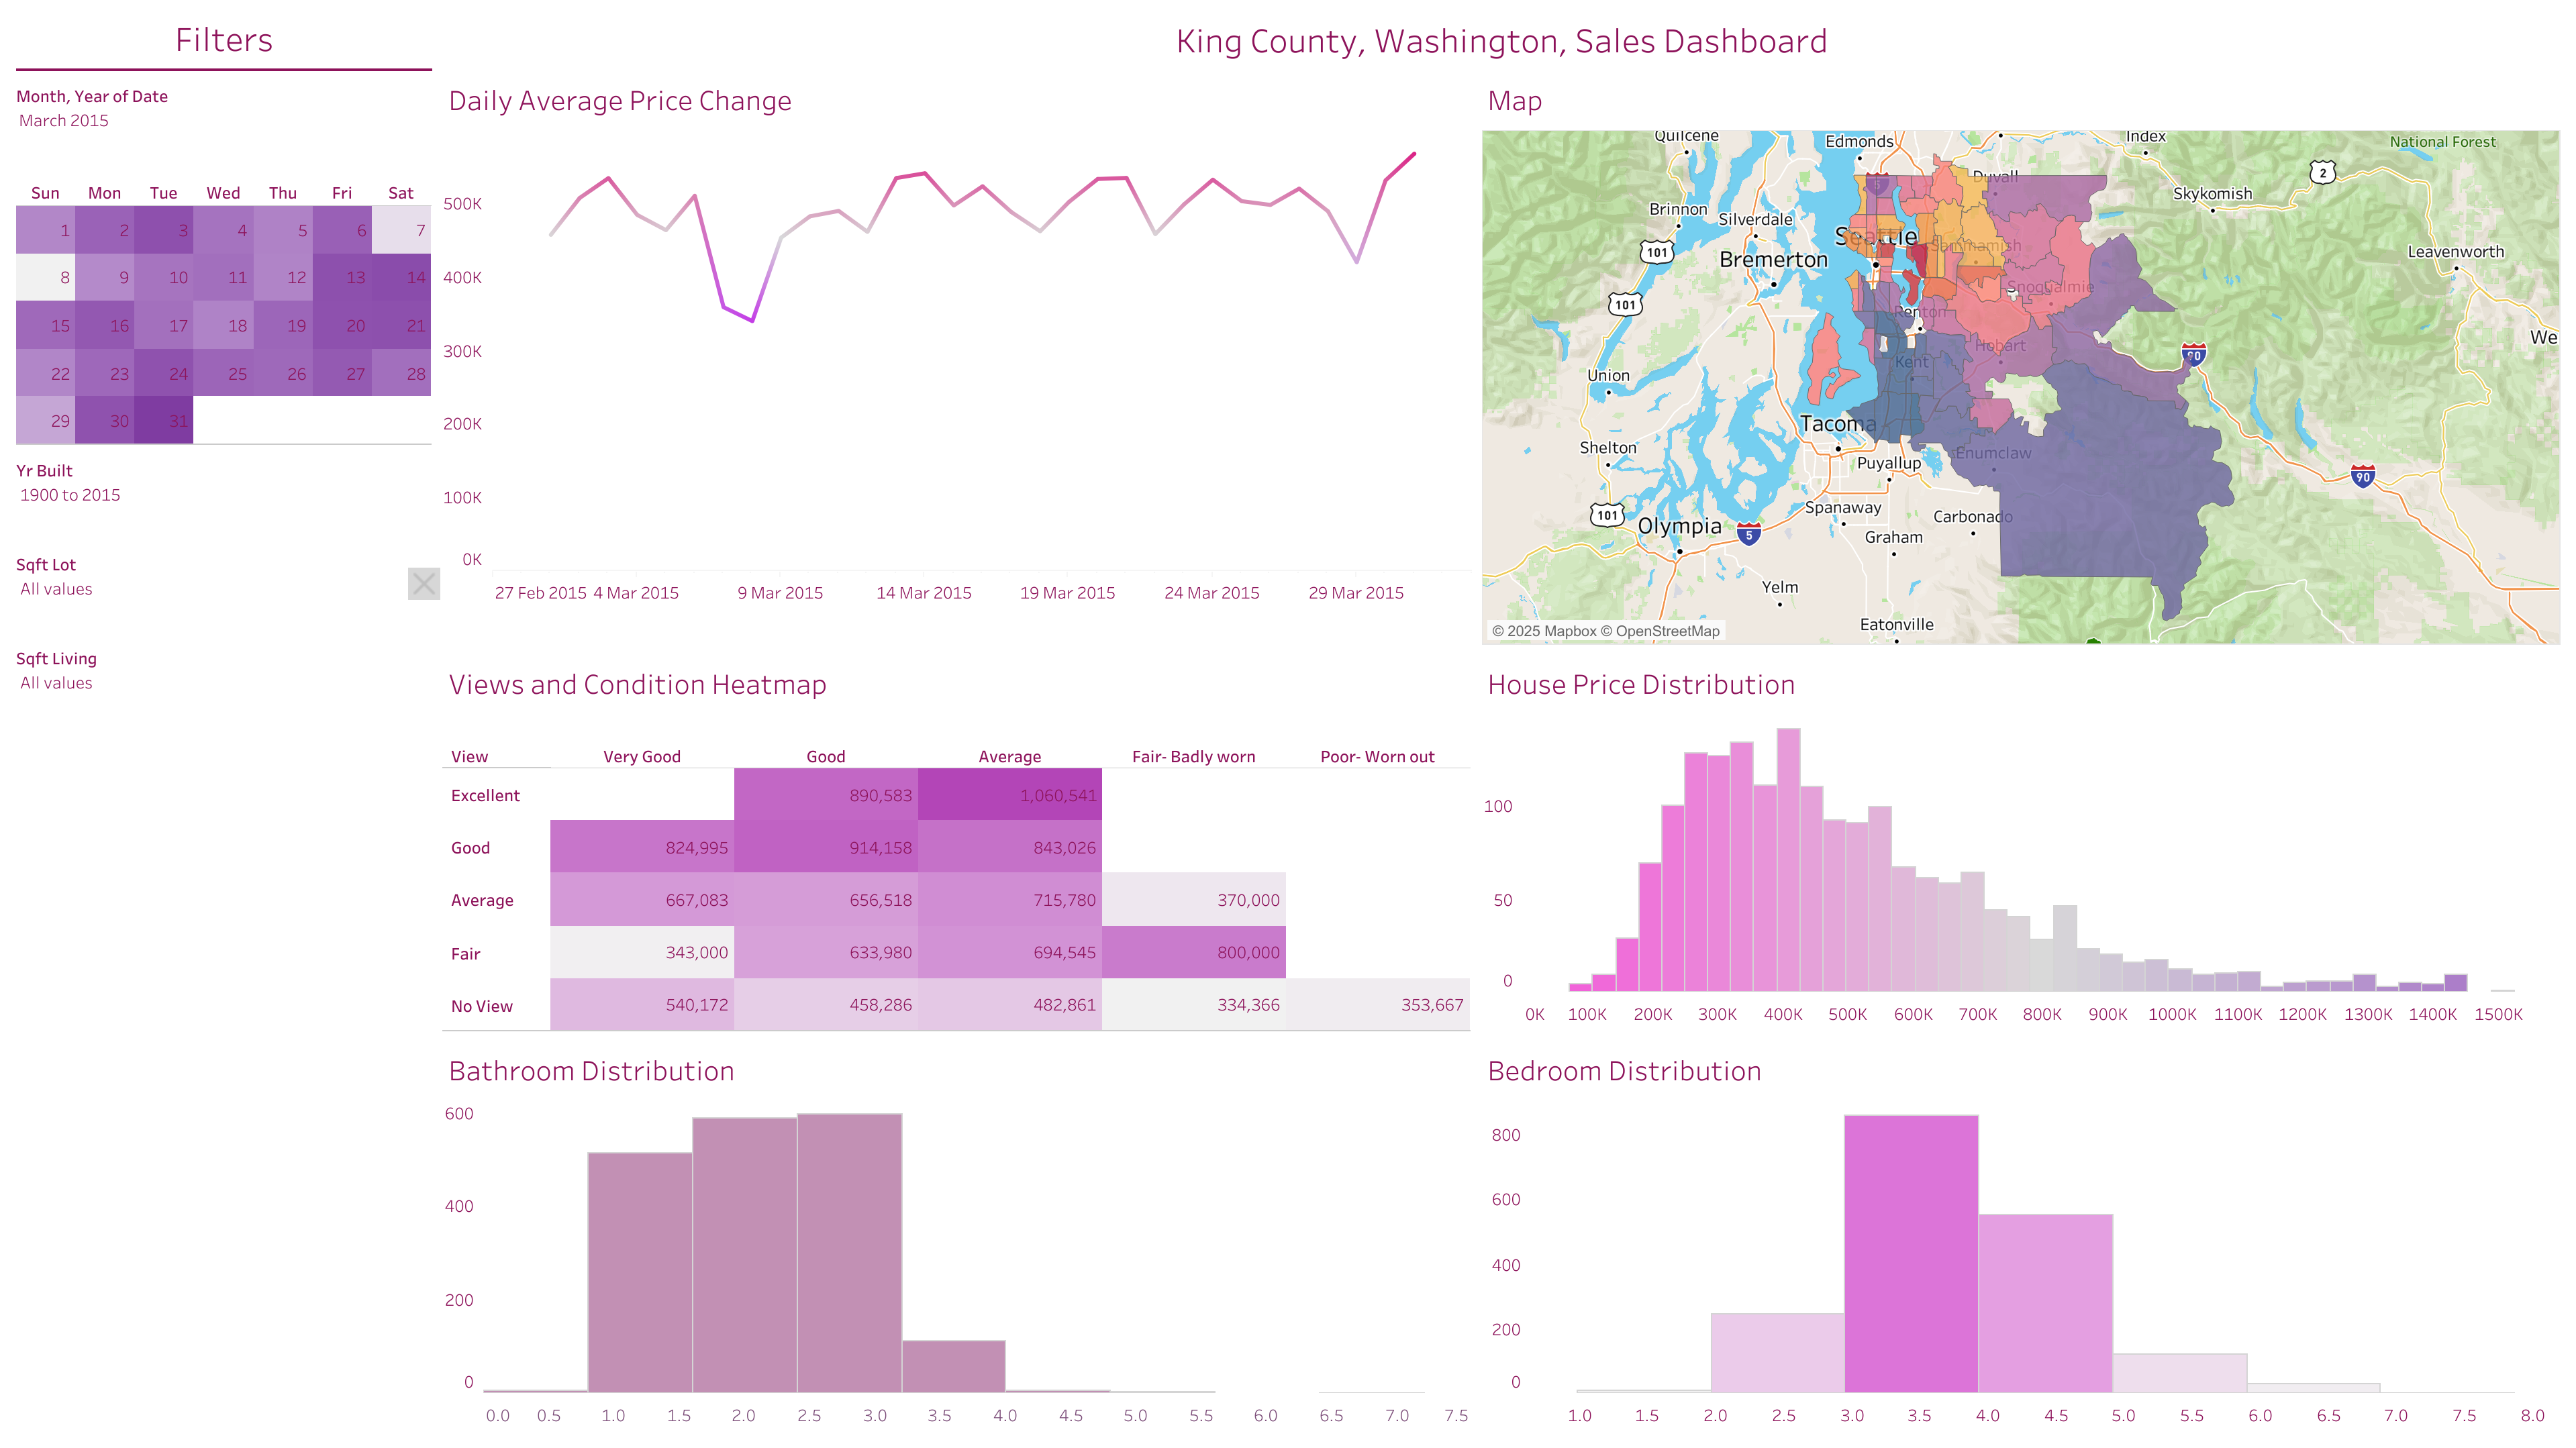

The page's visual inventory and layout, read from the dashboard file:
{"tool":"tableau","page":{"name":"Final Dashboard","canvas":[1920,1080],"ordinal":0},"visuals":[{"type":"text","box":[8,8,318,39]},{"type":"text","box":[326,8,1586,42]},{"type":"blank","box":[8,47,318,10]},{"type":"worksheet","title":"Daily Average Price Change","mark":"Automatic","rows":["price"],"cols":["date"],"box":[326,50,774.2,435]},{"type":"worksheet","title":"Map","mark":"Automatic","box":[1100.2,50,811.8,435]},{"type":"filter","title":"Calender","param":"[federated.1bc1t0w0pjvd4d147aey30zrv1yh].[my:date:ok]","box":[8,57,318,52]},{"type":"worksheet","title":"Calender","mark":"Square","rows":["date"],"cols":["date"],"box":[8,109,318,223]},{"type":"filter","title":"Calender","param":"[federated.1bc1t0w0pjvd4d147aey30zrv1yh].[none:yr_built:qk]","box":[8,332,318,51]},{"type":"filter","title":"Calender","param":"[federated.1bc1t0w0pjvd4d147aey30zrv1yh].[none:sqft_lot:qk]","box":[8,383,318,51]},{"type":"dashboard-object","box":[304,423,24,24]},{"type":"filter","title":"Calender","param":"[federated.1bc1t0w0pjvd4d147aey30zrv1yh].[none:sqft_living:qk]","box":[8,434,318,51]},{"type":"worksheet","title":"Heatmap","mark":"Square","rows":["view"],"cols":["condition"],"box":[326,485,774.2,288]},{"type":"worksheet","title":"House Price Distribution","mark":"Automatic","rows":["price"],"cols":["Price (bin)"],"box":[1100.2,485,811.8,288]},{"type":"worksheet","title":"Bathroom Distribution","mark":"Automatic","rows":["bathrooms"],"cols":["Bathrooms (bin)"],"box":[326,773,774.2,299]},{"type":"worksheet","title":"Bedroom Distribution","mark":"Automatic","rows":["bedrooms"],"cols":["Bedrooms (bin)"],"box":[1100.2,773,811.8,299]}]}

Visuals, with their boxes in screenshot pixels (x1, y1, x2, y2), scaled from the page's 1920x1080 canvas onto the 2576x1448 screenshot:
text: detection(11, 11, 438, 63)
text: detection(438, 11, 2565, 67)
blank: detection(11, 63, 438, 76)
"Daily Average Price Change" worksheet: detection(438, 67, 1476, 650)
"Map" worksheet: detection(1476, 67, 2565, 650)
"Calender" filter: detection(11, 76, 438, 146)
"Calender" worksheet (Square marks): detection(11, 146, 438, 445)
"Calender" filter: detection(11, 445, 438, 513)
"Calender" filter: detection(11, 513, 438, 582)
dashboard-object: detection(408, 567, 440, 599)
"Calender" filter: detection(11, 582, 438, 650)
"Heatmap" worksheet (Square marks): detection(438, 650, 1476, 1037)
"House Price Distribution" worksheet: detection(1476, 650, 2565, 1037)
"Bathroom Distribution" worksheet: detection(438, 1037, 1476, 1437)
"Bedroom Distribution" worksheet: detection(1476, 1037, 2565, 1437)
